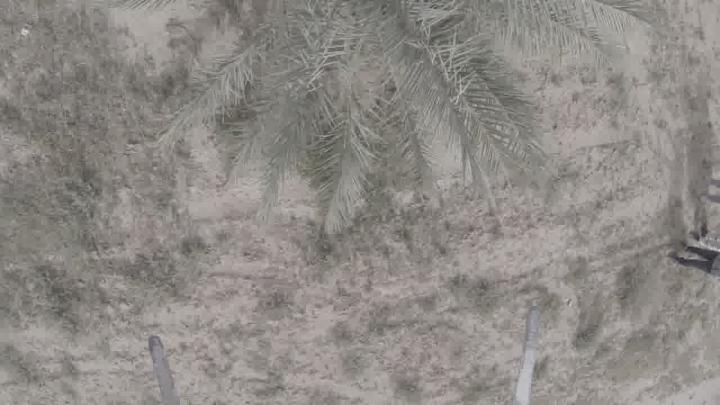Date-Palm-Crown: (262, 0, 546, 122)
